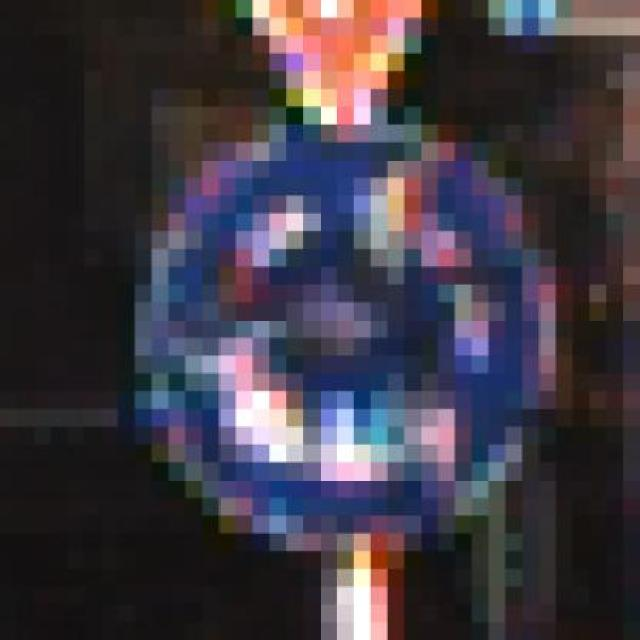Round-About: (101, 89, 573, 569)
